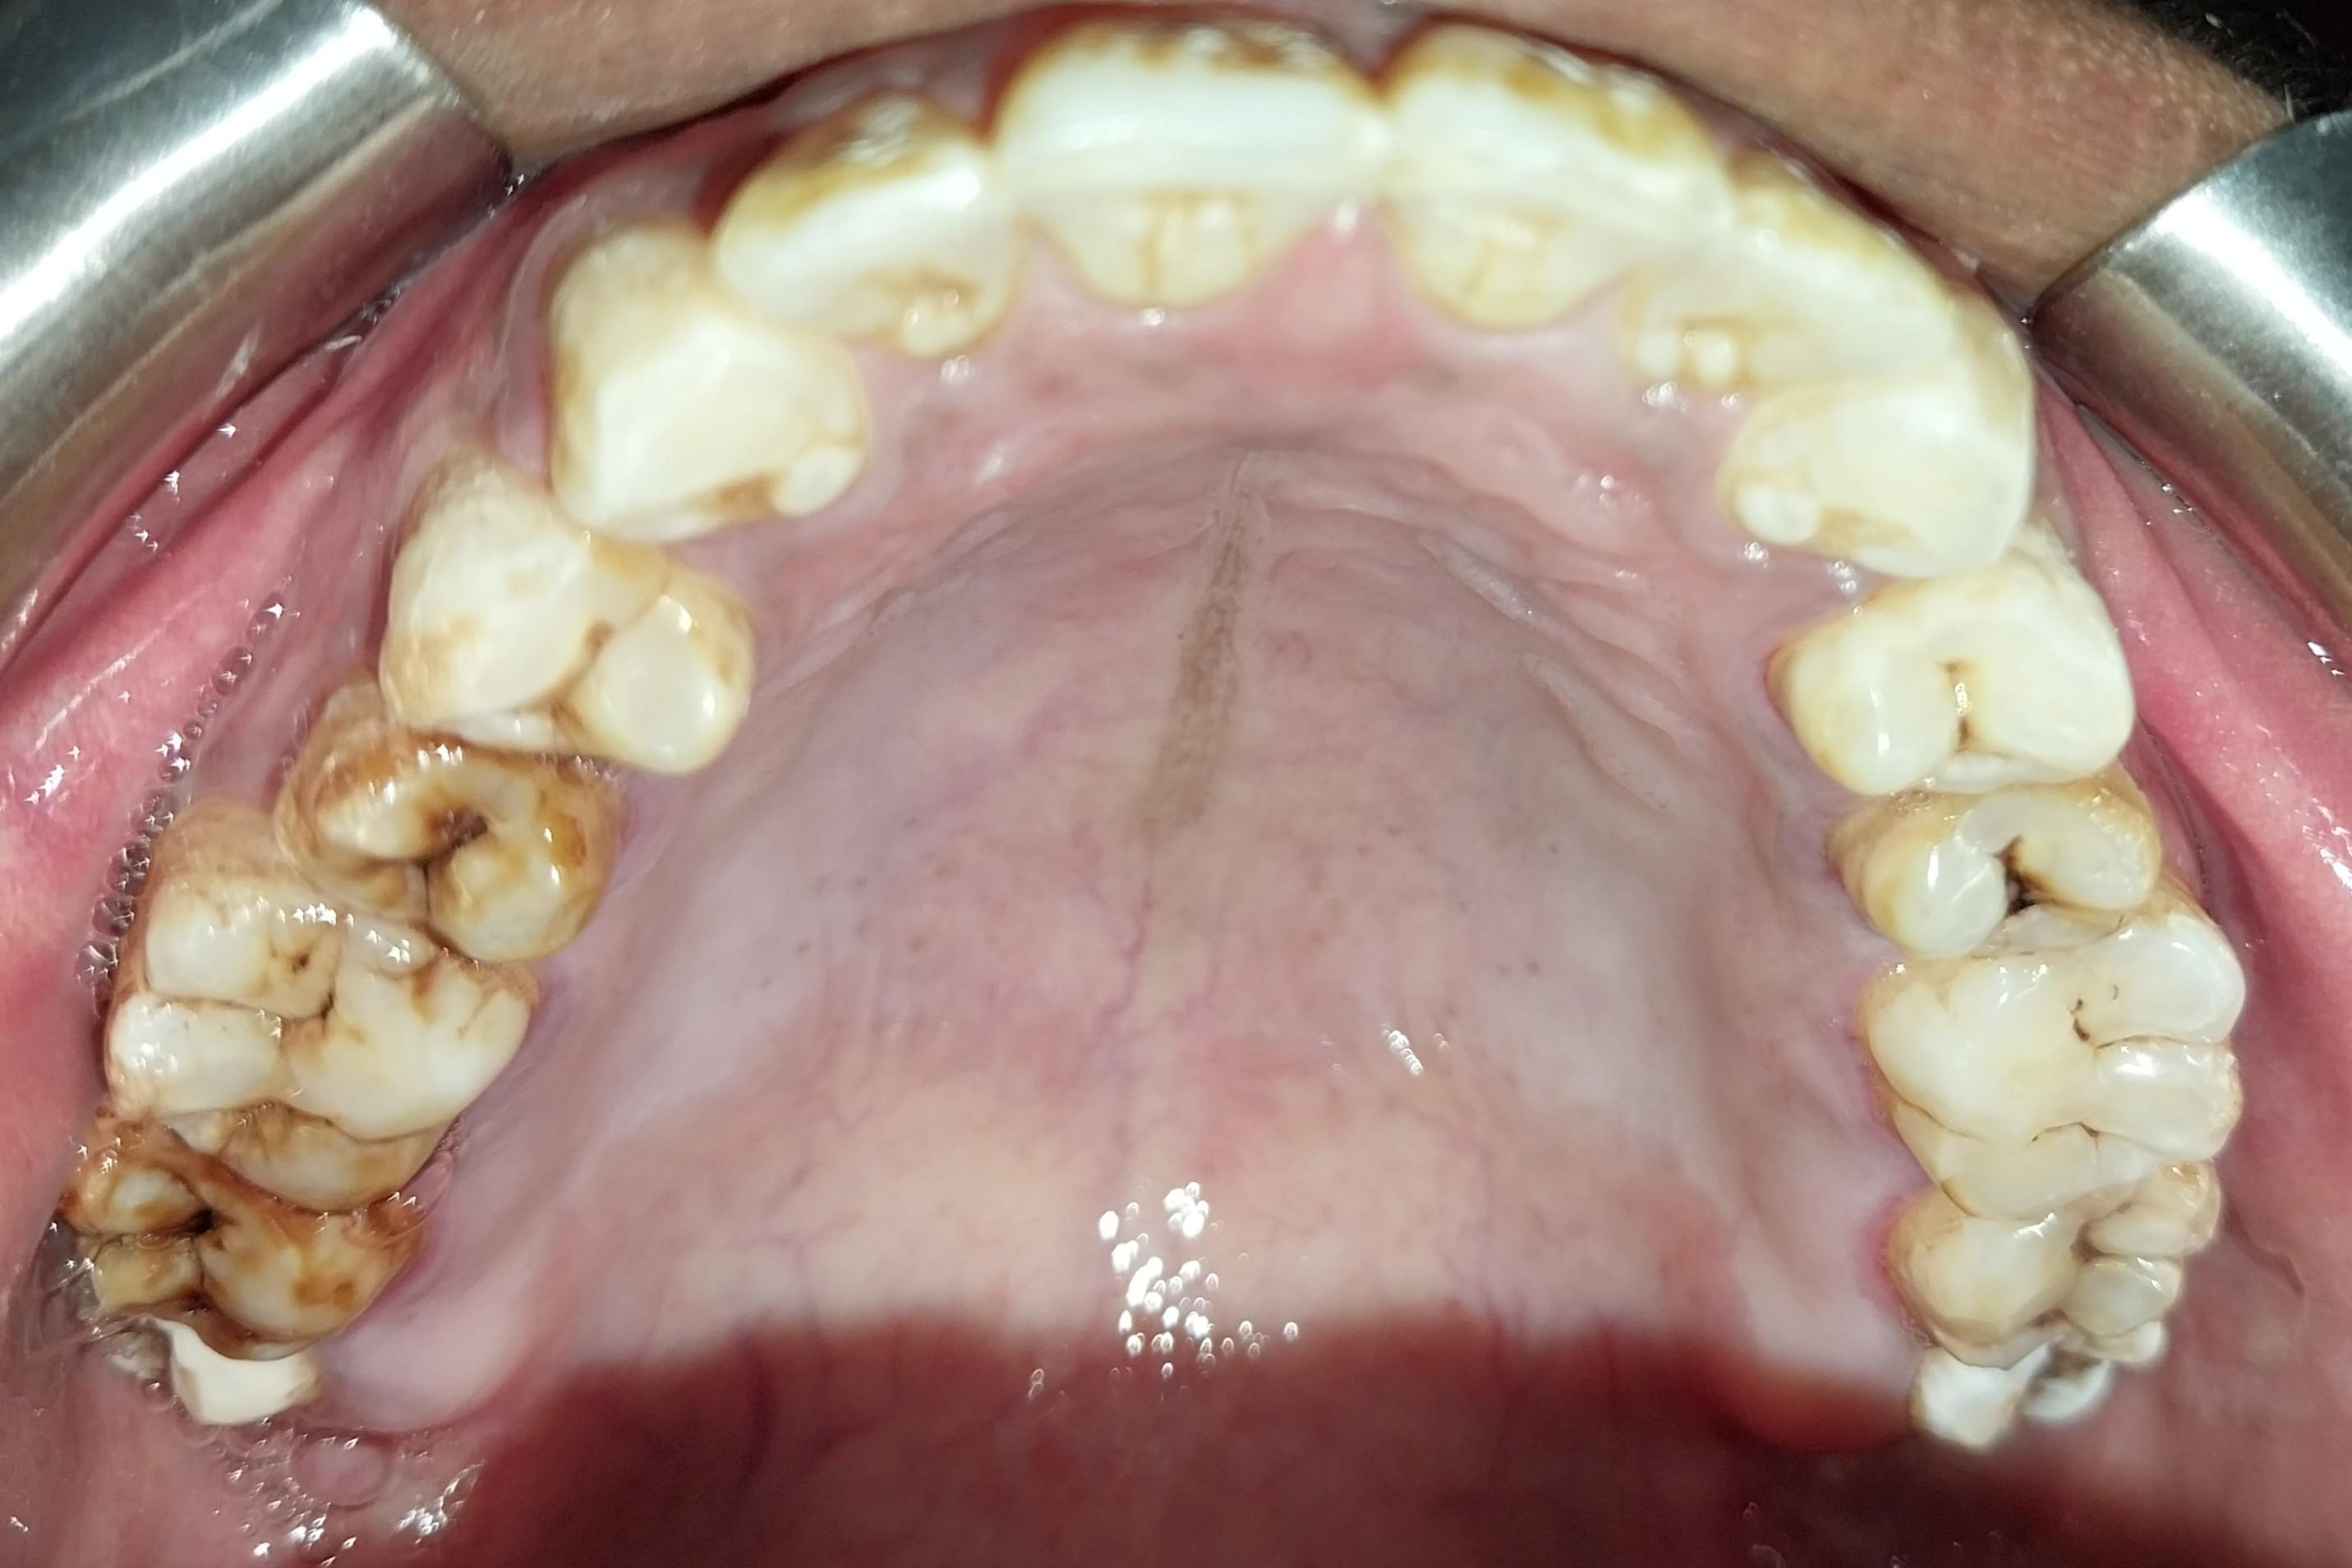D: (116, 847, 503, 1205), (1859, 927, 2241, 1205), (288, 720, 622, 969), (62, 1133, 417, 1363), (1878, 1168, 2215, 1369), (1825, 775, 2166, 956), (1910, 1330, 2183, 1454)
